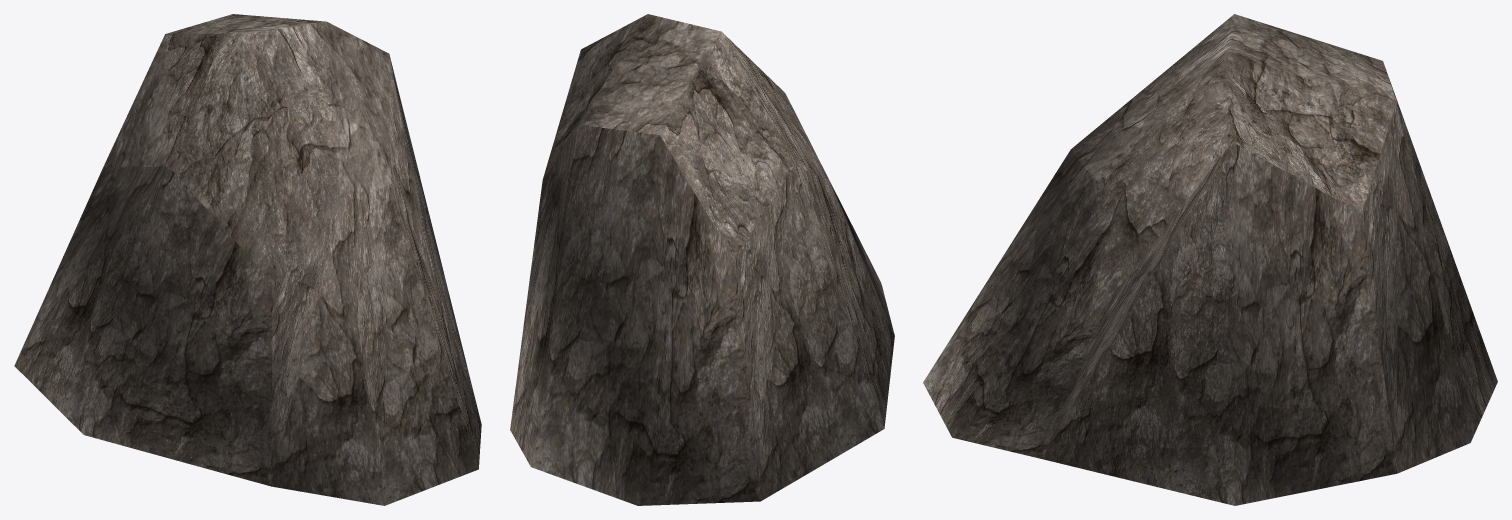
File: Stone_03_T05.FBX
The picture shows the model from 3 angles, left to right: view 1: azimuth 30°, elevation 25°; view 2: azimuth 150°, elevation 25°; view 3: azimuth 270°, elevation 25°; orthographic projection. The views are drawn at different scales.
Parts seen in each view (by area): view 1: Box001; view 2: Box001; view 3: Box001.
Part boxes in pixels (box(x1,y1,x2,y2)): Box001: box(14, 14, 481, 505); Box001: box(510, 14, 894, 505); Box001: box(923, 14, 1497, 505).
Bounding box in the file's own units: 54.66 × 57.46 × 75.19.
